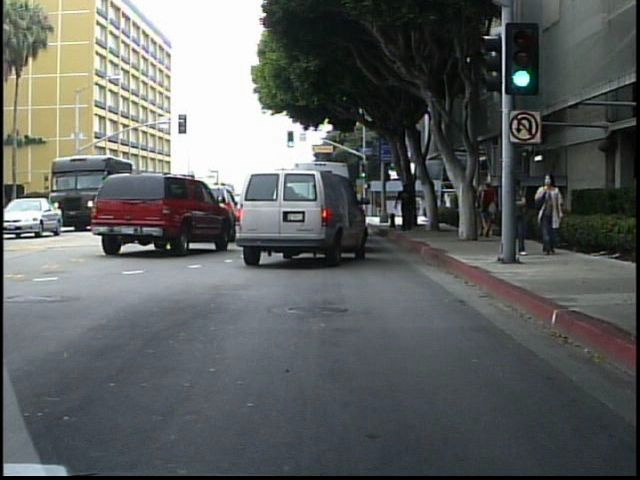person: (531, 171, 570, 262), (511, 174, 534, 260), (464, 172, 486, 246), (479, 173, 501, 243), (396, 181, 419, 236), (413, 185, 427, 224)
